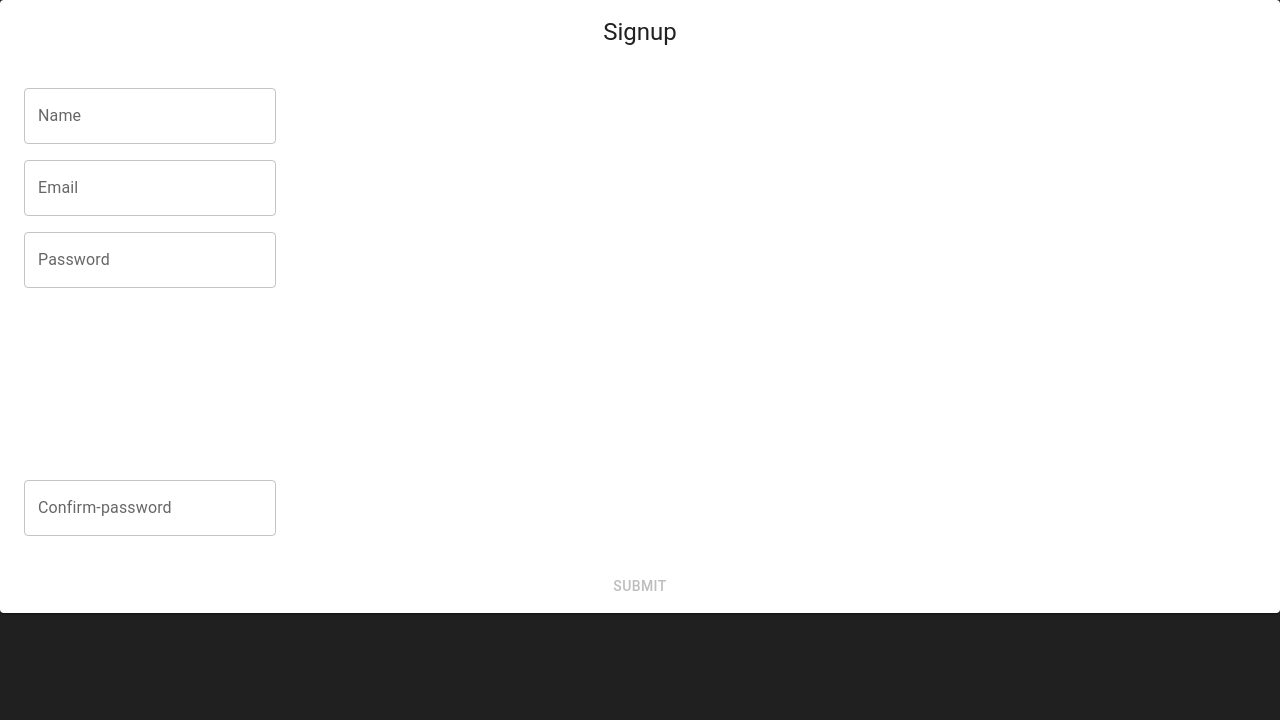
should be able to type in password field
The image size is (1280, 720).
Click the password field labelled "Password" at (150, 260), box 24,232 -> 276,288
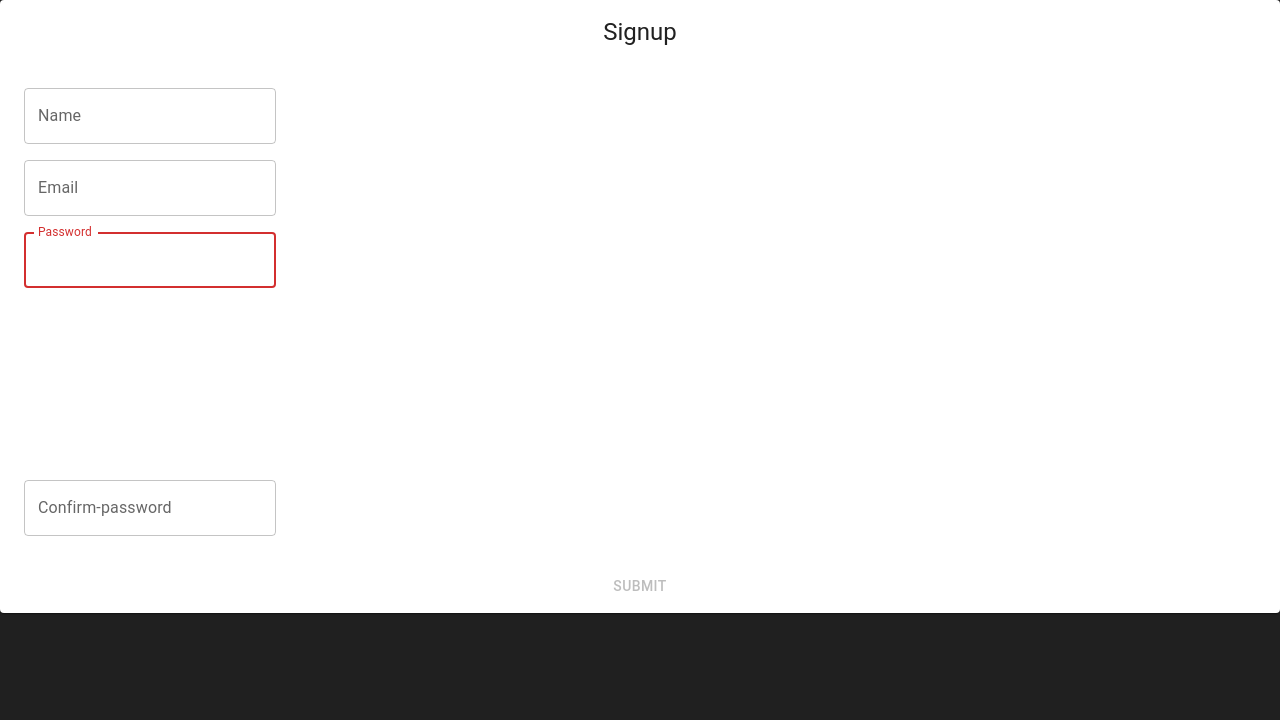
Type keys "Password1!"
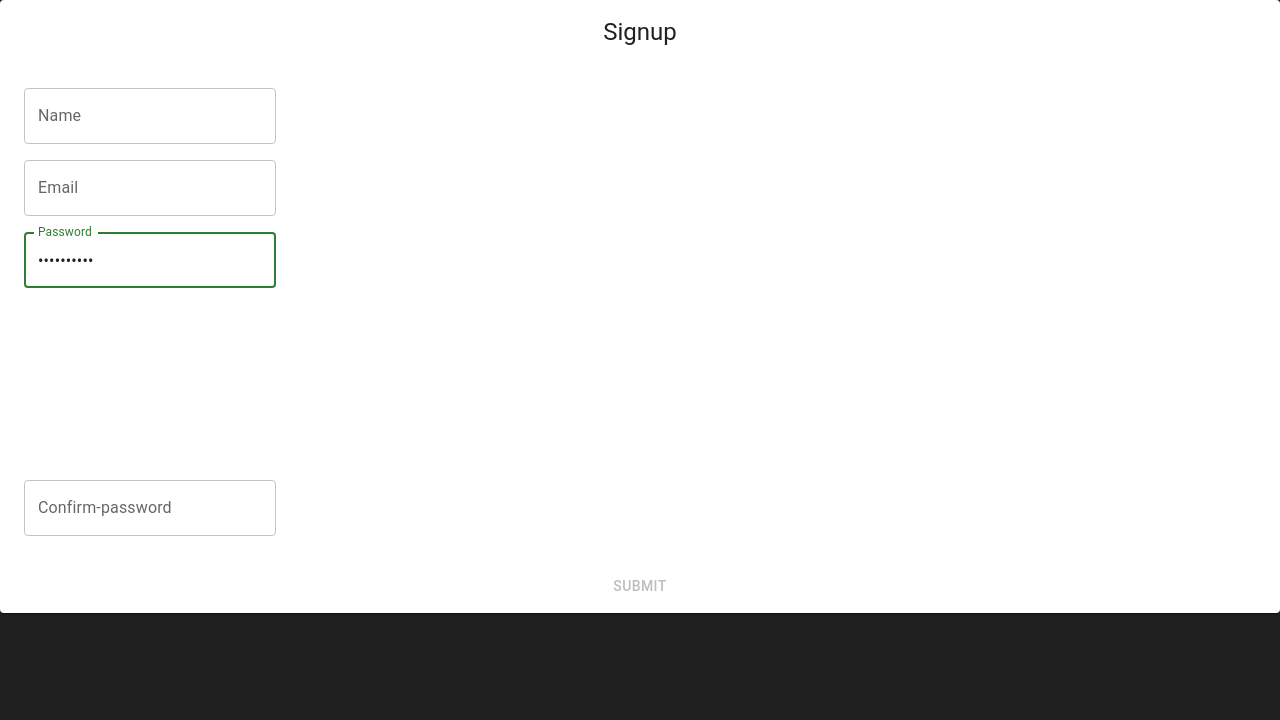
Expected: the password field labelled "Password" holds "Password1!", 24,232 -> 276,288
